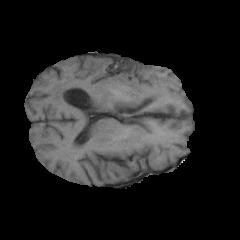glioma: (51, 62, 163, 113)
